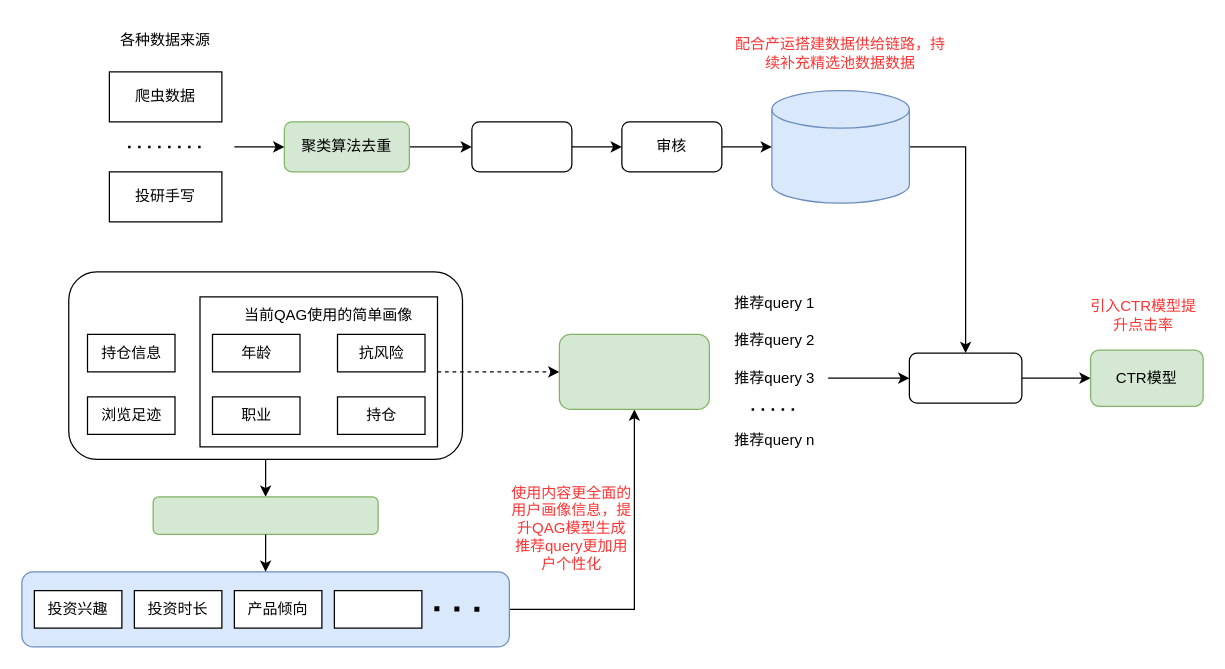
This 1225x669 diagram has some shape labels left out. The shapes that lost their labels are listed below. From the top down, each one's centre as x and y in pixels, then its label:
point (521, 146): GPT改写
point (840, 146): SUG精选池
point (633, 371): QAG-LLM 策划+生成
point (965, 377): 检索模块
point (265, 515): 画像Agent-LLM
point (377, 608): 收益预期
